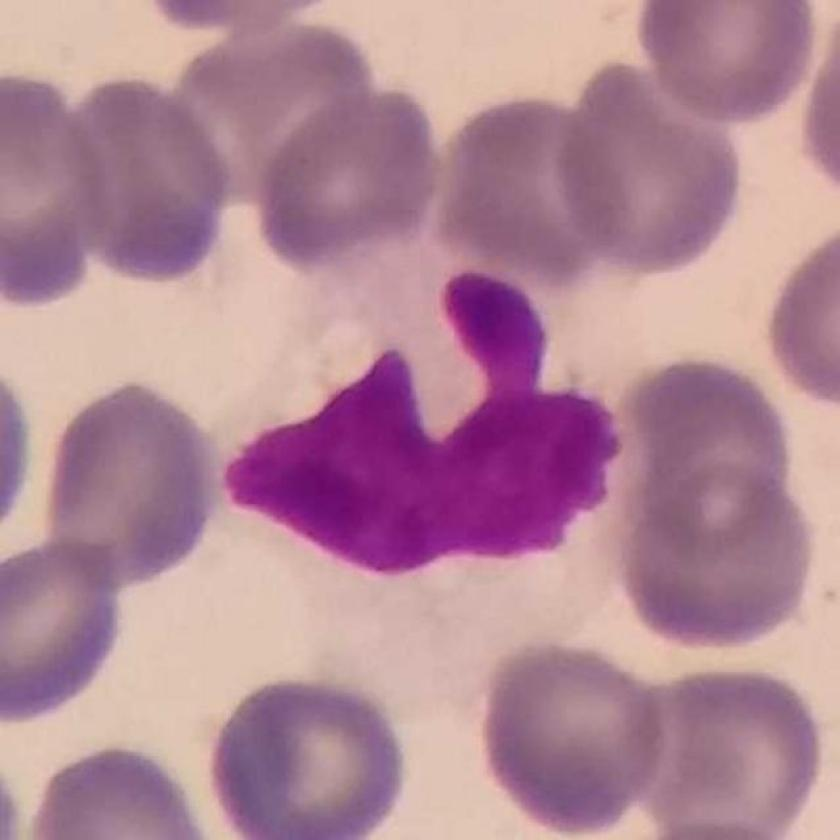monocyte: (180, 210, 644, 715)
